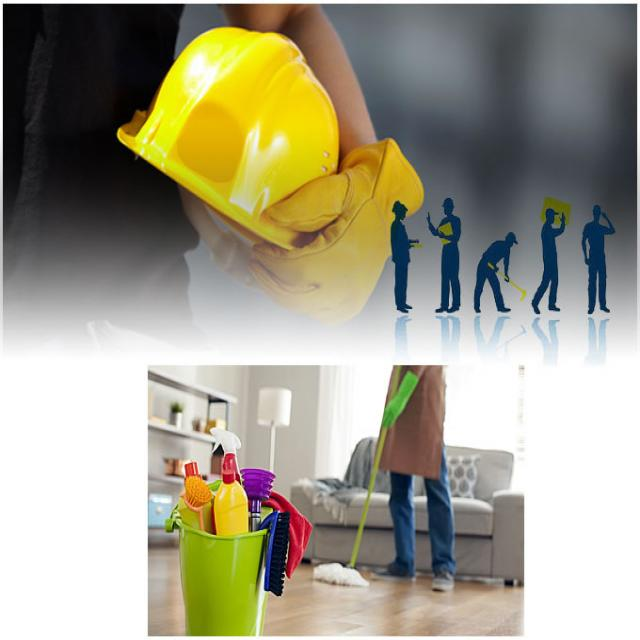Reflective-Jacket: (438, 215, 461, 248)
Safety-Helmet: (118, 29, 340, 250), (442, 194, 456, 209)
